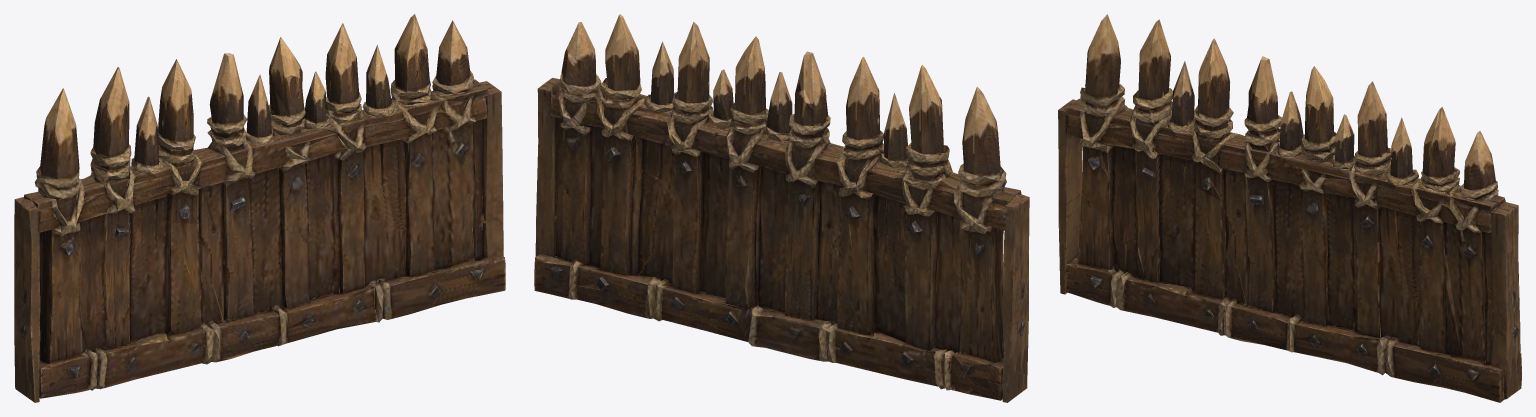
File: barricade-straight.glb
3 renders of one model, left to right at view 1: azimuth 30°, elevation 25°; view 2: azimuth 150°, elevation 25°; view 3: azimuth 330°, elevation 25°, orthographic. The views are drawn at different scales.
Parts seen in each view (by area): view 1: output_unwrapped; view 2: output_unwrapped; view 3: output_unwrapped.
Boxes of the visible parts, x1,y1,x2,y2 form: output_unwrapped: [14, 14, 505, 402]; output_unwrapped: [534, 14, 1029, 402]; output_unwrapped: [1058, 14, 1521, 402].
Size of the model in its own units: 1.9 by 1.18 by 0.2101.
Materials: 1 (1 with a texture image).
